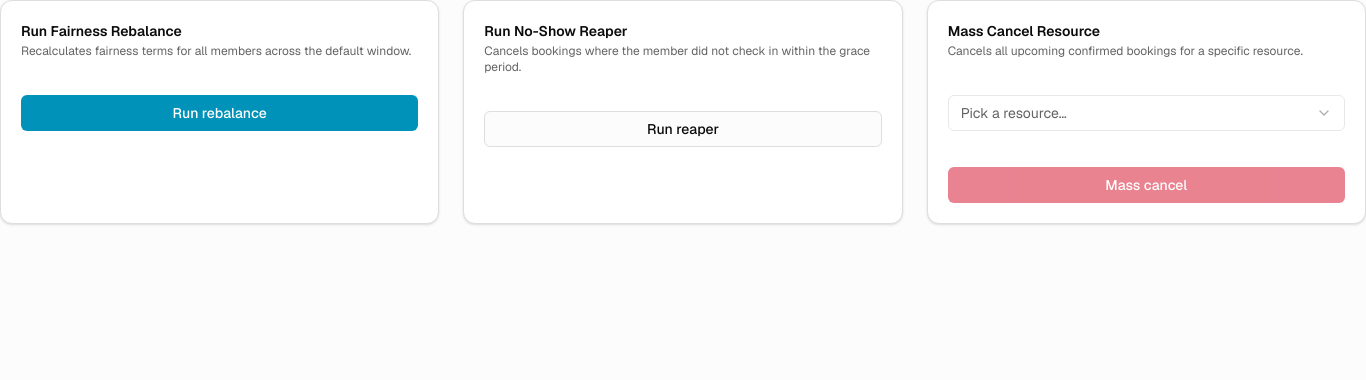
Scenario: OpsPanel › j) mass cancel success — toast.success and result JSON shown
Click the dropdown: coordinates (1014, 113) [948, 95, 1345, 131]
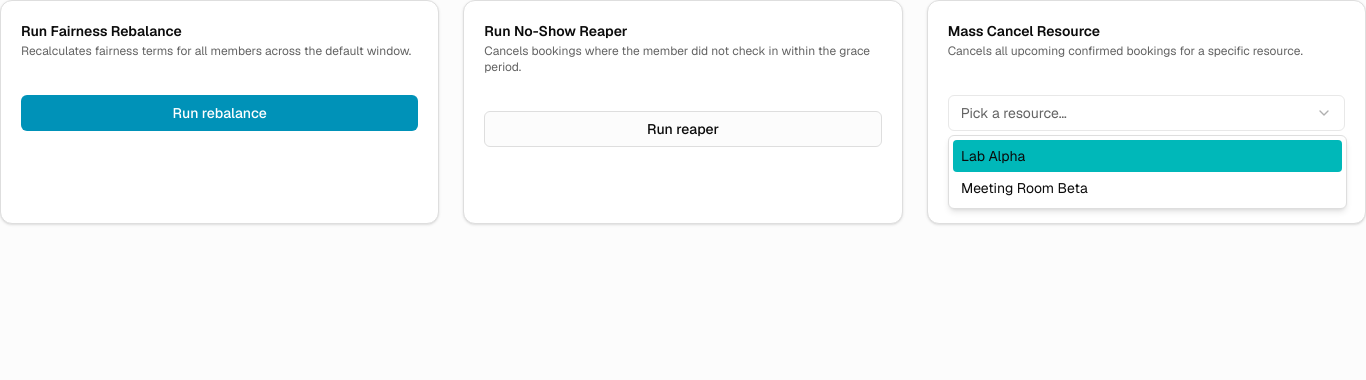
Click the option "Lab Alpha": coordinates (993, 156) [953, 140, 1342, 172]
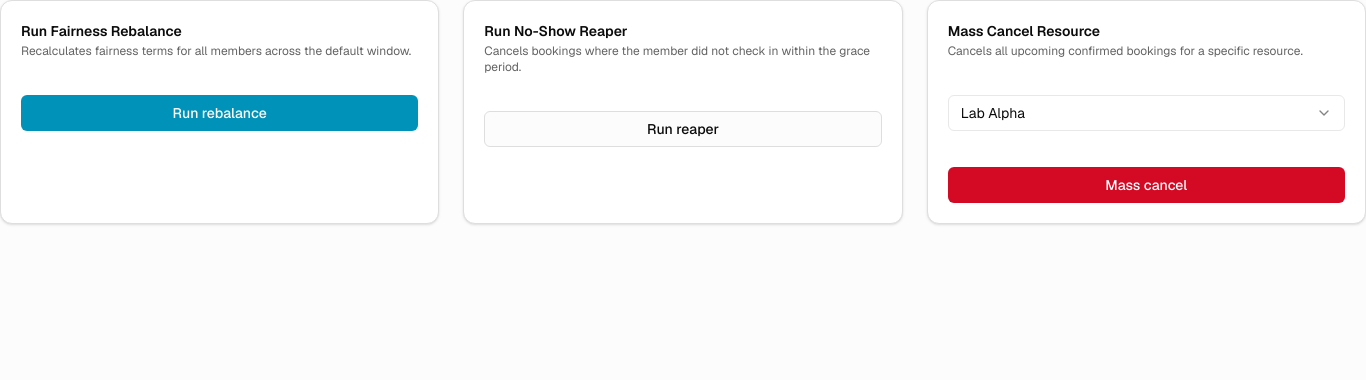
Click the button "Mass cancel": coordinates (1146, 185) [948, 167, 1345, 203]
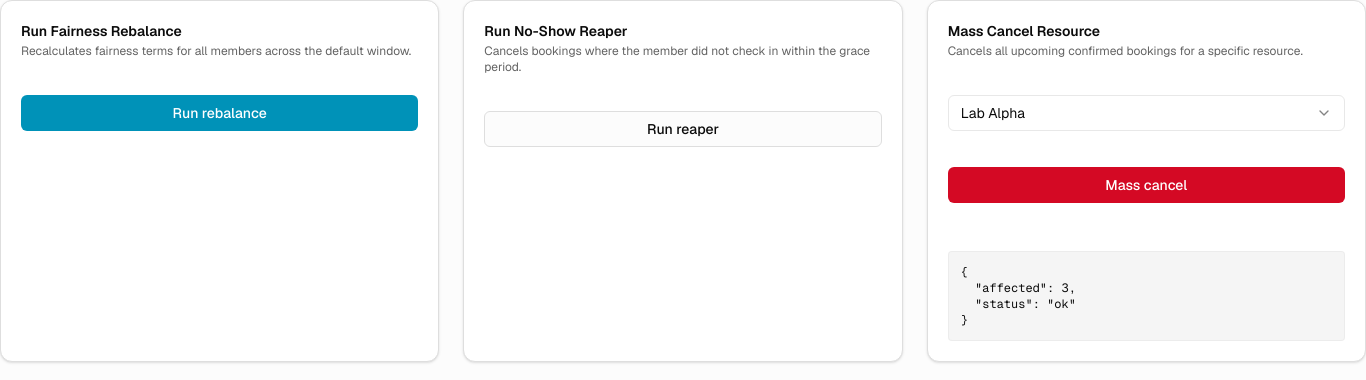
Now the text "{ \"affected\": 3, \"status\": \"ok\" }" is shown, box [948, 251, 1345, 341]
